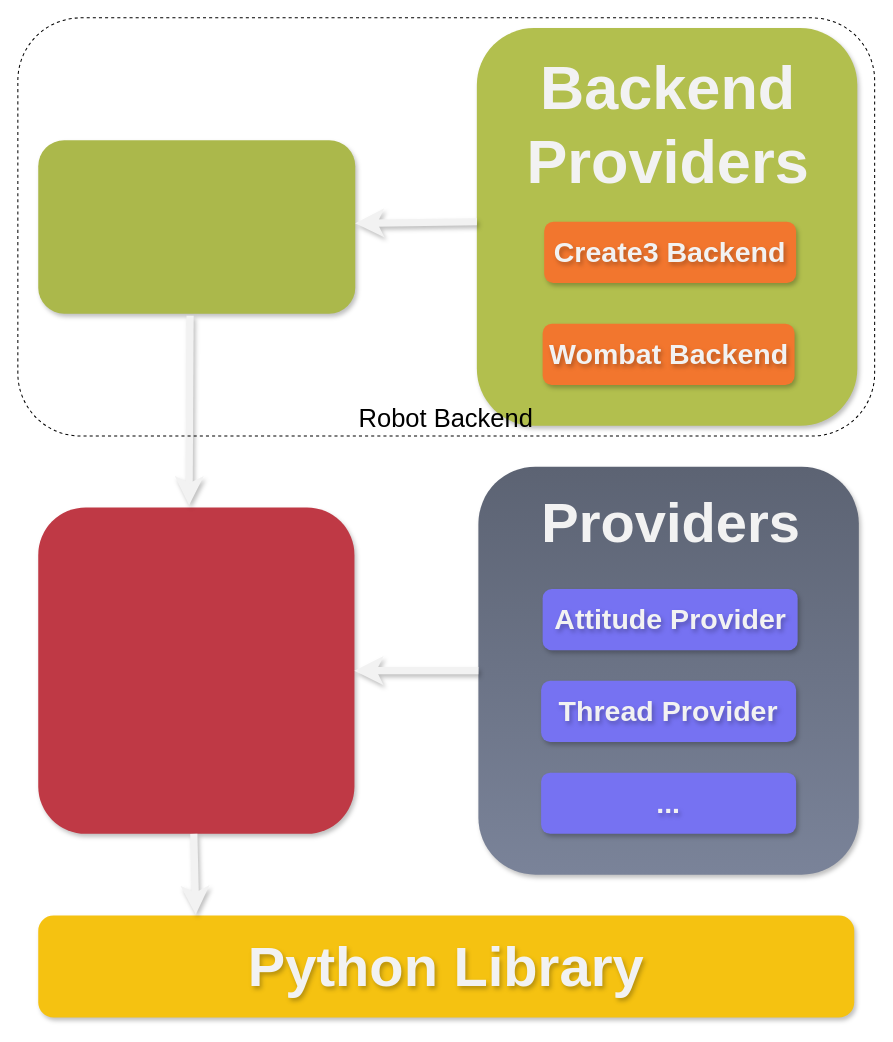
Some shapes in this 893 by 1042 pixel diagram are drawn without their labels. The centre of each missing label's shape, as x and y in pixels:
Chosen Backend: (197,228)
Python Binding Generator: (197,671)
